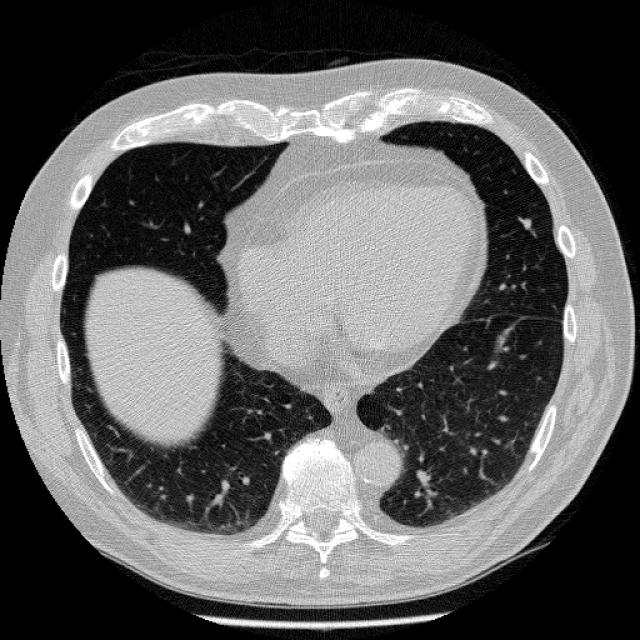nodule: (514, 210, 538, 235)
